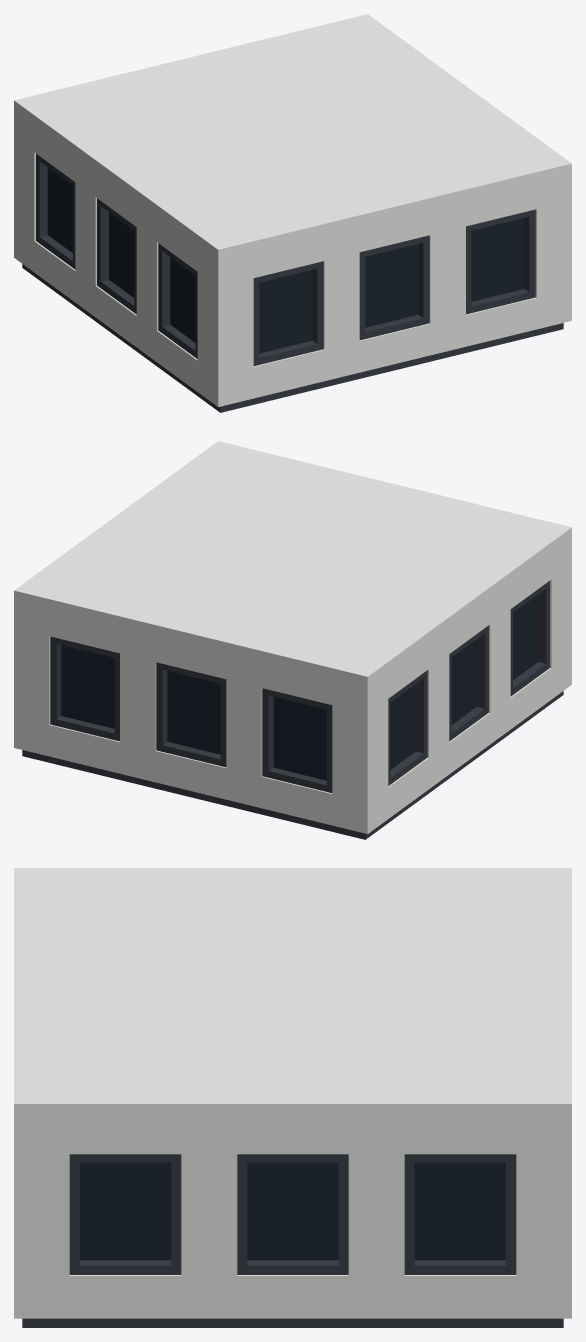
Rendered from floor_b.glb.
3 renders of one model, top to bottom at view 1: azimuth 30°, elevation 25°; view 2: azimuth 150°, elevation 25°; view 3: azimuth 270°, elevation 25°, orthographic. The views are drawn at different scales.
Visible parts, largest first — view 1: floor_b; view 2: floor_b; view 3: floor_b.
Part boxes in pixels (x1,y1,x2,y2): floor_b: (14,14,571,412); floor_b: (14,441,571,839); floor_b: (14,868,571,1327).
Size of the model in its own units: 1 by 0.45 by 1.
